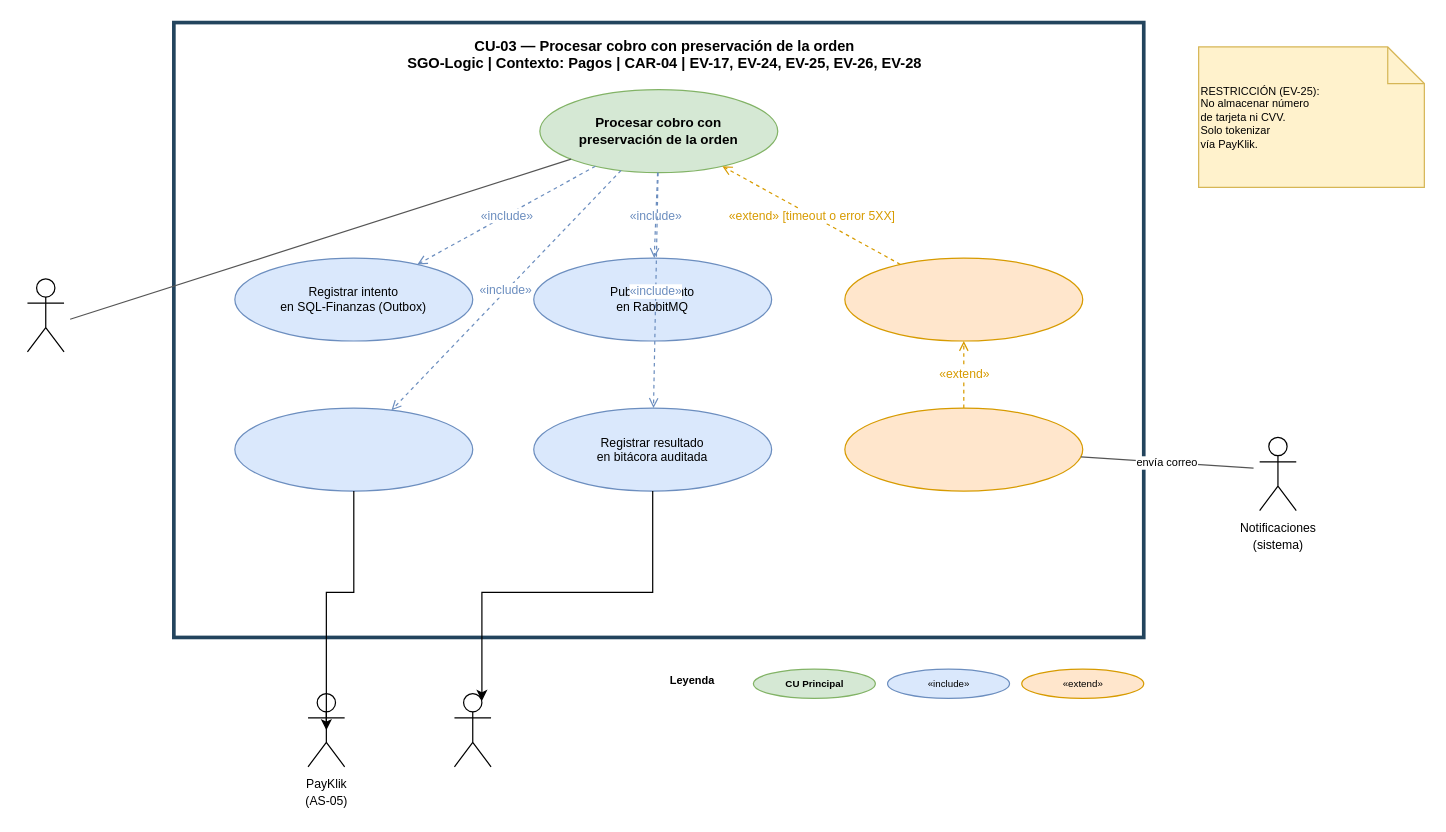
Some shapes in this 1446 by 832 pixel diagram are drawn without their labels. Each missing label, with the centre of its shape:
"Auditoría (sistema)" goes at (472,729).
"Generar enlace de reintento al cliente" goes at (963,449).
"Invocar PayKlik vía REST (~800 ms)" goes at (353,449).
"Marcar orden Pago Pendiente" goes at (963,299).
"Órdenes (sistema)" goes at (45,315).
